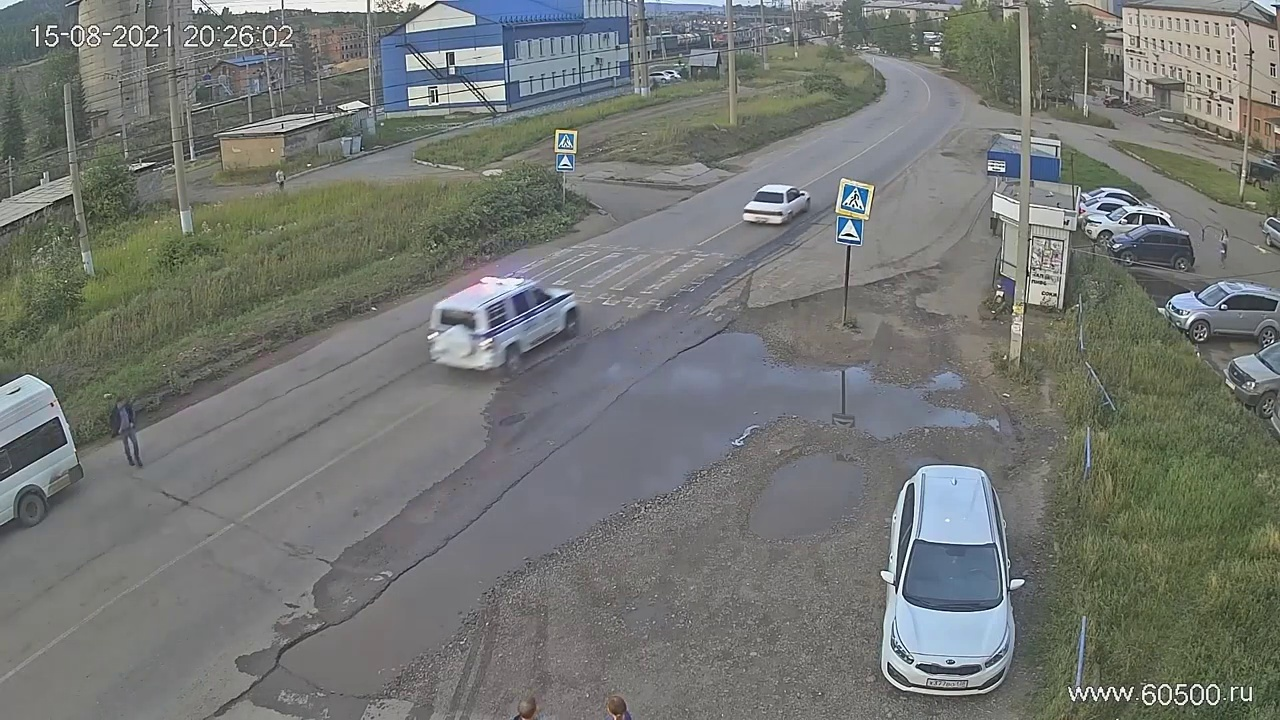bus: (1, 370, 86, 530)
car: (874, 463, 1028, 698), (1160, 278, 1280, 346), (1222, 340, 1280, 420), (1106, 223, 1196, 272), (1081, 207, 1175, 248), (742, 182, 813, 224), (1076, 197, 1150, 232), (1077, 186, 1160, 215), (1250, 153, 1280, 190), (1261, 212, 1280, 257), (645, 70, 671, 84), (656, 68, 682, 82), (1103, 97, 1129, 108)
pedestrian: (114, 397, 144, 468), (510, 693, 543, 720), (605, 692, 635, 720), (1218, 228, 1230, 268), (274, 168, 287, 193)
police: (427, 273, 580, 375)
